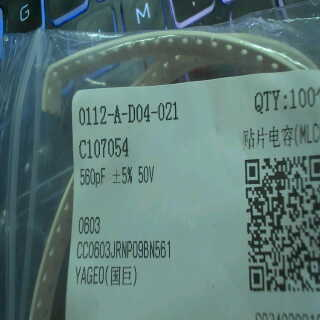560pF: (78, 162, 111, 187)
